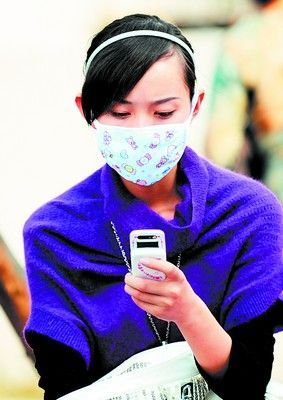mask: (86, 88, 206, 181)
